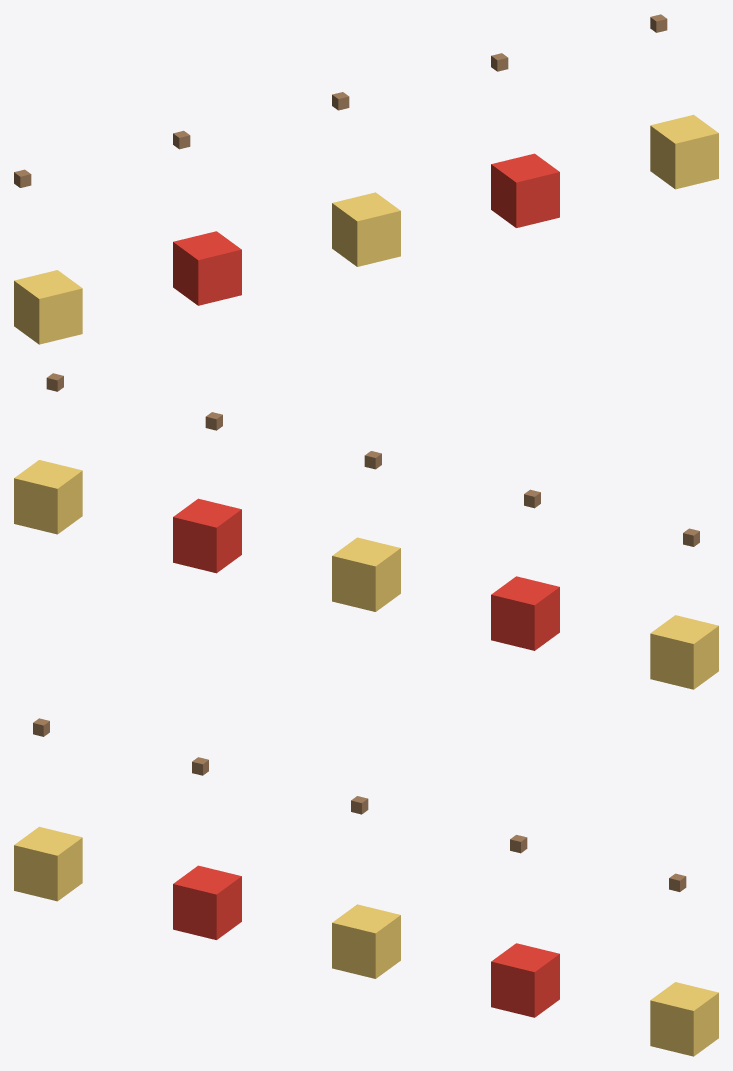
File: voxel-jinan-lantern-string.gltf
3 views of the same model, one above another, from view 1: azimuth 30°, elevation 25°; view 2: azimuth 150°, elevation 25°; view 3: azimuth 330°, elevation 25° (orthographic).
Bounding box in the file's own units: 1.5 × 0.324 × 0.096.
